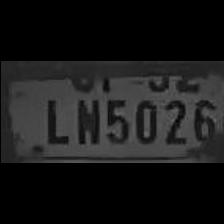0: (130, 94, 158, 144)
2: (158, 94, 188, 146)
5: (100, 92, 128, 146)
6: (188, 94, 218, 146)
L: (36, 92, 68, 146)
N: (70, 92, 98, 146)
